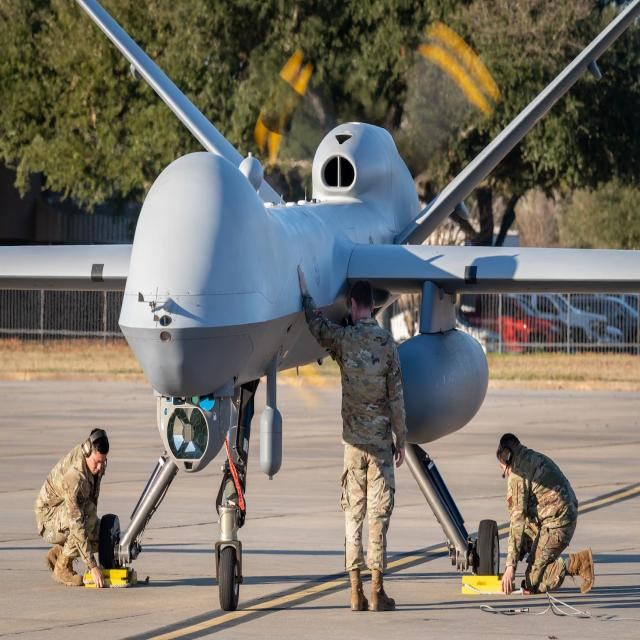F22: (20, 22, 640, 640)
